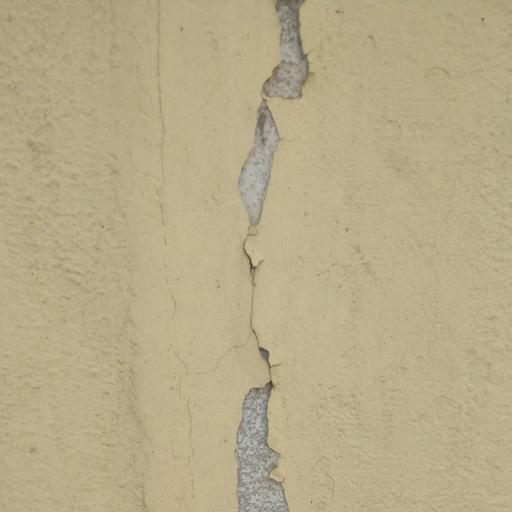peeling: (221, 0, 327, 512), (132, 5, 226, 512)
